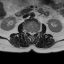CCS_stenosis: (31, 30, 33, 38)
LFS_normal: (35, 29, 37, 35)
LLS_normal: (33, 30, 35, 37)
RFS_normal: (27, 29, 29, 35)
RLS_normal: (29, 30, 31, 36)
